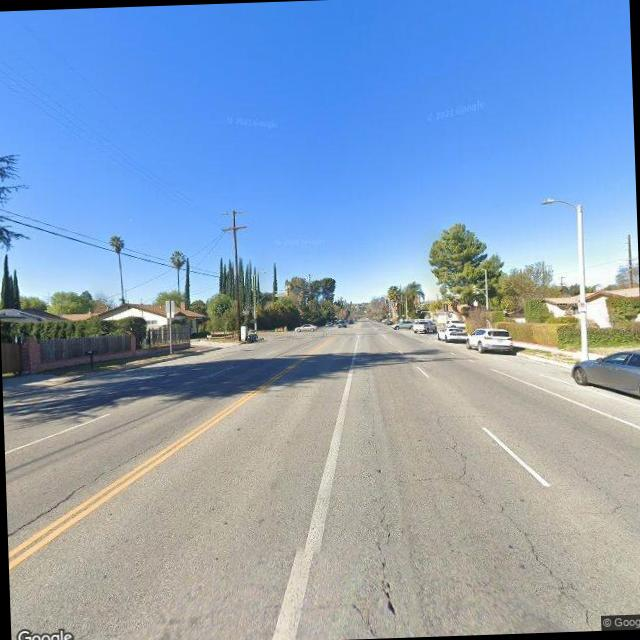pothole: (428, 412, 600, 632), (4, 433, 170, 547), (366, 494, 400, 624)
